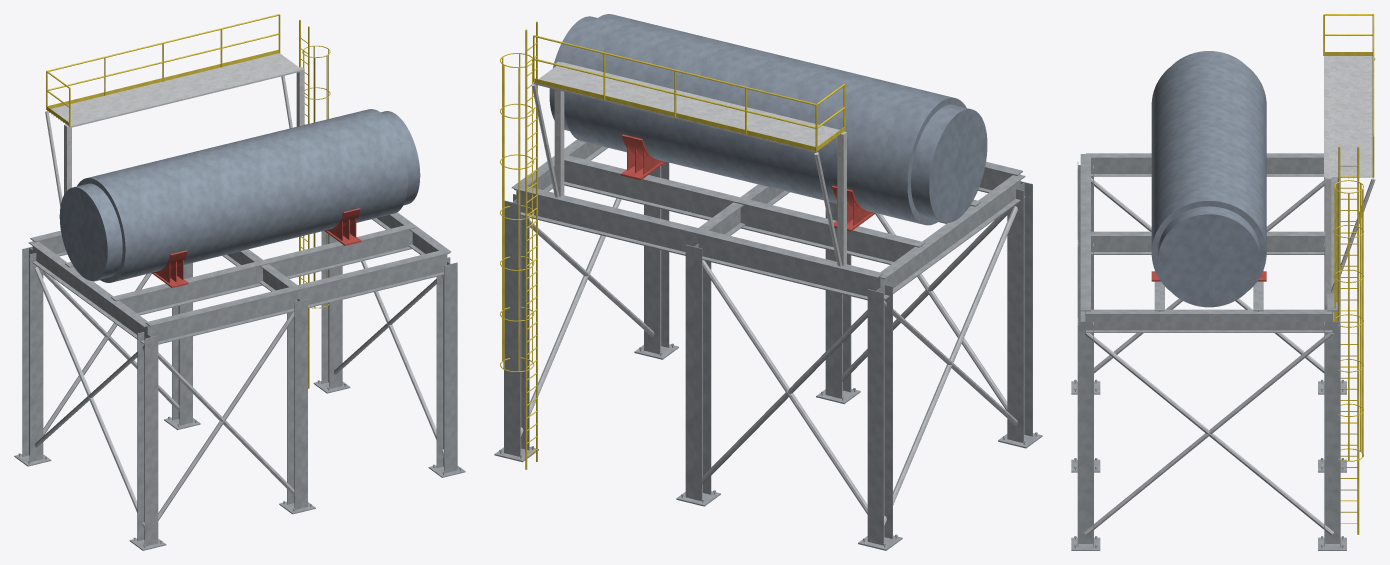
The model's file is equipment-support-structures.glb.
The picture shows the model from 3 angles, left to right: view 1: azimuth 30°, elevation 25°; view 2: azimuth 150°, elevation 25°; view 3: azimuth 270°, elevation 25°; orthographic projection. The views are drawn at different scales.
Visible parts, largest first — view 1: Vessel(context), Columns&BasePlates, Table-TopBeams, Bracing, AccessPlatform, Ladder&Handrails, Saddles&SolePlates; view 2: Vessel(context), Columns&BasePlates, Table-TopBeams, AccessPlatform, Bracing, Ladder&Handrails, Saddles&SolePlates; view 3: Vessel(context), Table-TopBeams, Columns&BasePlates, AccessPlatform, Ladder&Handrails, Bracing.
Part boxes in pixels (bbox=[...]): Vessel(context): bbox=[59, 109, 420, 282]; Columns&BasePlates: bbox=[14, 231, 465, 550]; Table-TopBeams: bbox=[28, 212, 450, 344]; Bracing: bbox=[34, 260, 443, 529]; AccessPlatform: bbox=[45, 53, 304, 206]; Ladder&Handrails: bbox=[46, 14, 330, 388]; Saddles&SolePlates: bbox=[152, 208, 361, 287]; Vessel(context): bbox=[549, 14, 987, 225]; Columns&BasePlates: bbox=[494, 162, 1042, 550]; Table-TopBeams: bbox=[511, 139, 1025, 300]; AccessPlatform: bbox=[531, 61, 846, 266]; Bracing: bbox=[520, 198, 1017, 526]; Ladder&Handrails: bbox=[500, 21, 845, 469]; Saddles&SolePlates: bbox=[620, 134, 875, 231]; Vessel(context): bbox=[1151, 51, 1266, 307]; Table-TopBeams: bbox=[1080, 153, 1337, 332]; Columns&BasePlates: bbox=[1071, 162, 1346, 550]; AccessPlatform: bbox=[1324, 56, 1375, 305]; Ladder&Handrails: bbox=[1323, 14, 1374, 534]; Bracing: bbox=[1084, 178, 1333, 535].
Bounding box in the file's own units: 9.7 × 10.53 × 7.4.
Materials: 6 (6 with a texture image).
